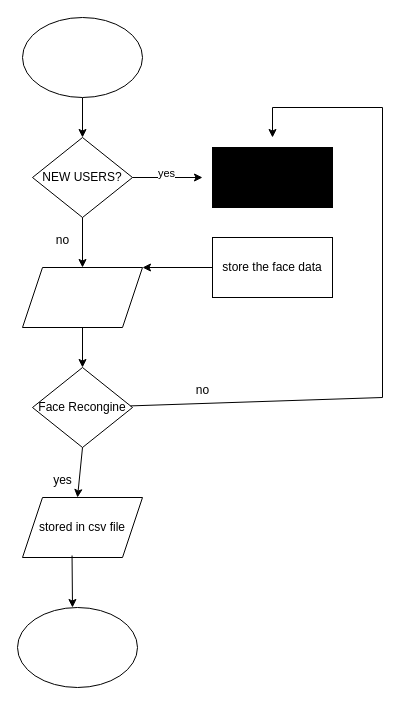
The diagram is 408 pixels wide and 705 high, and some of its shapes have lost their labels. The shapes that lost their labels are listed below. From the top down, each one's box as (x1, y1, x2, y2) in pixels, then its label:
(22, 16, 142, 98): START
(22, 266, 142, 328): Recognize
(16, 606, 138, 688): END
